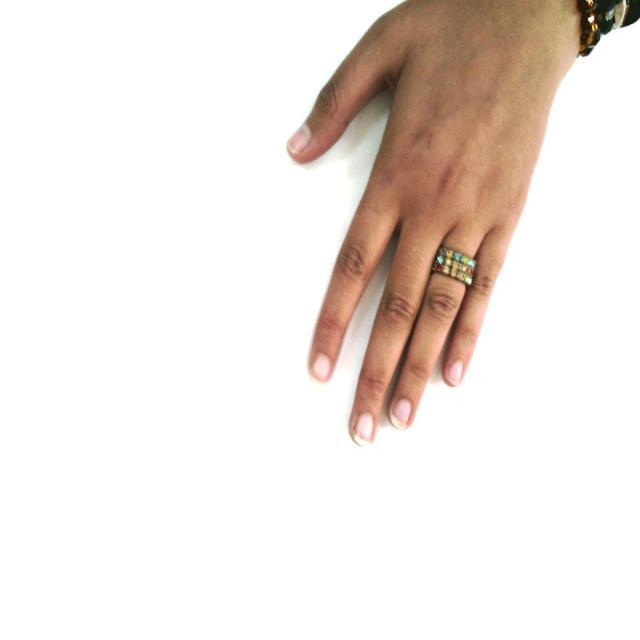Fingernail: (288, 126, 309, 152), (356, 413, 373, 443), (393, 399, 411, 426), (313, 356, 329, 381), (448, 360, 462, 385)
